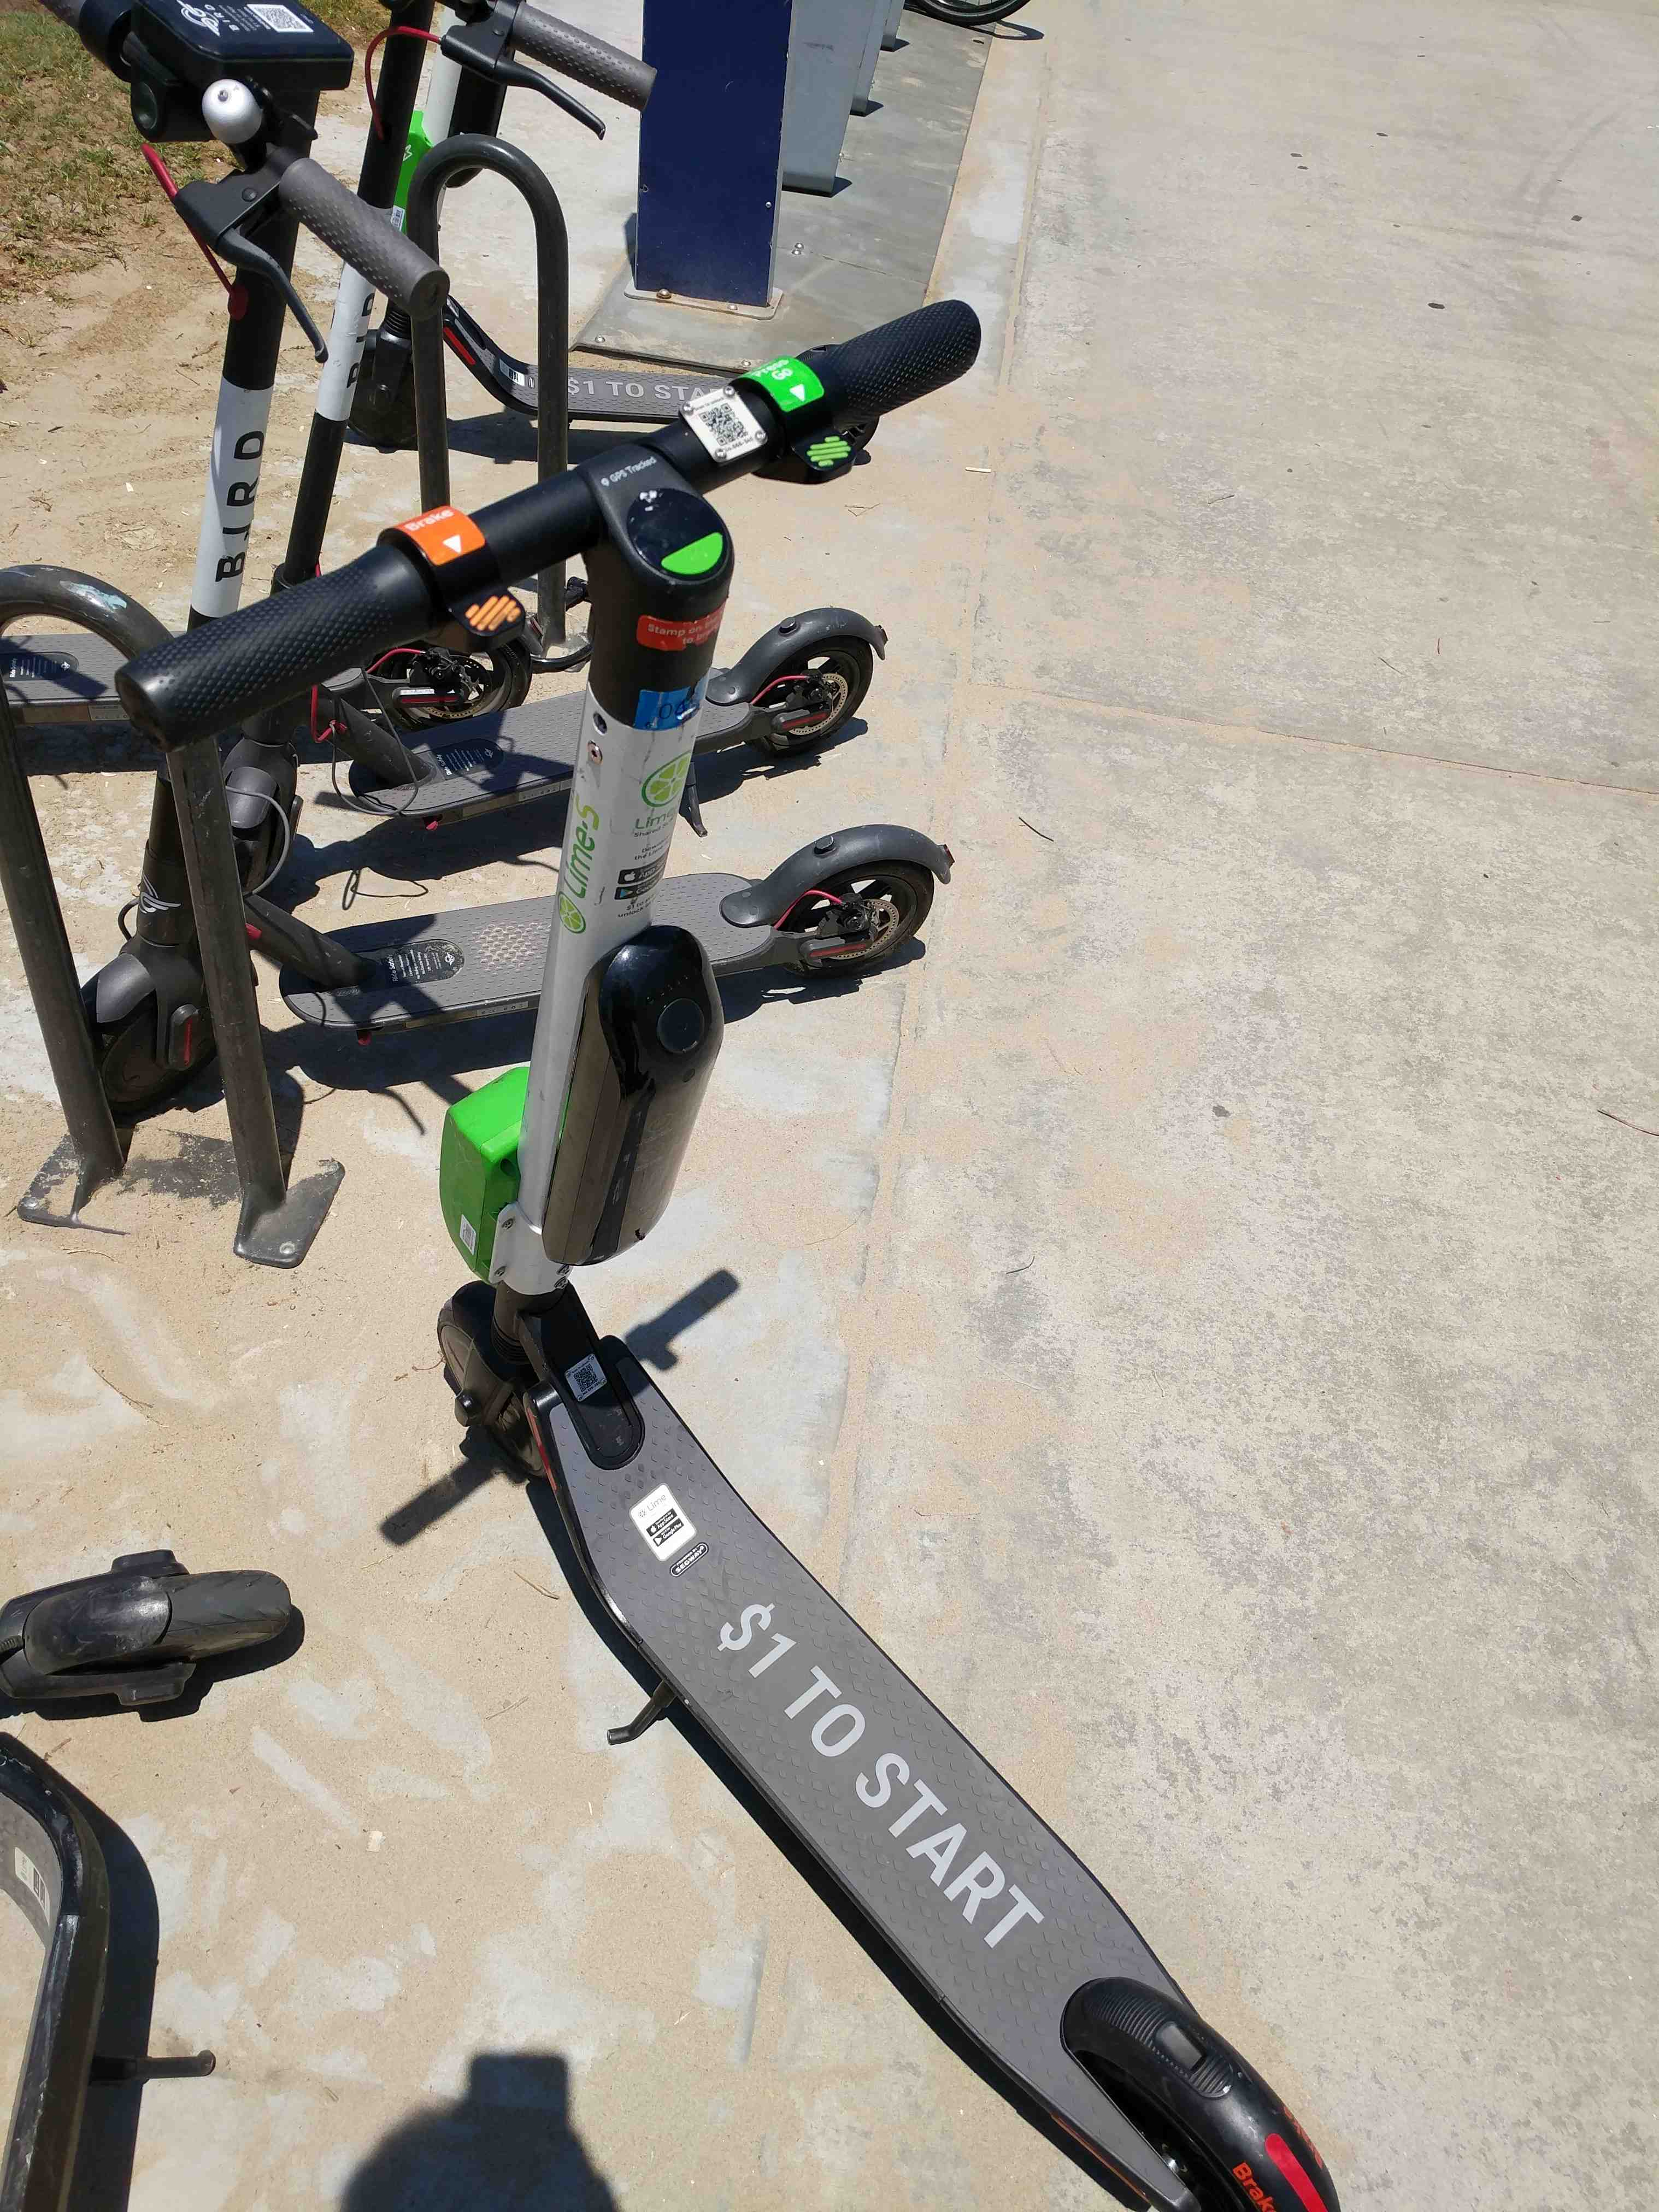scooter: (99, 256, 1445, 2212)
